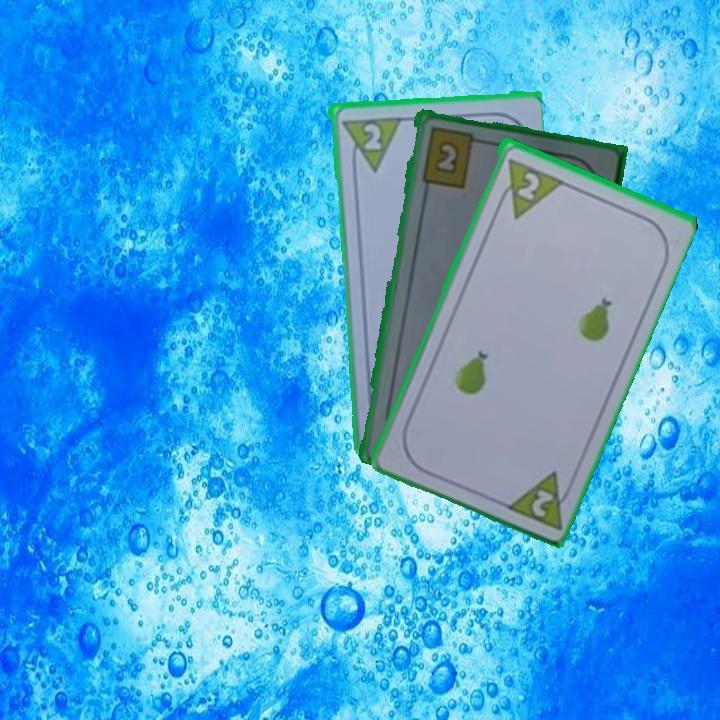2b: (418, 123, 485, 190)
2p: (491, 153, 564, 221), (527, 485, 556, 520), (359, 119, 384, 153)
